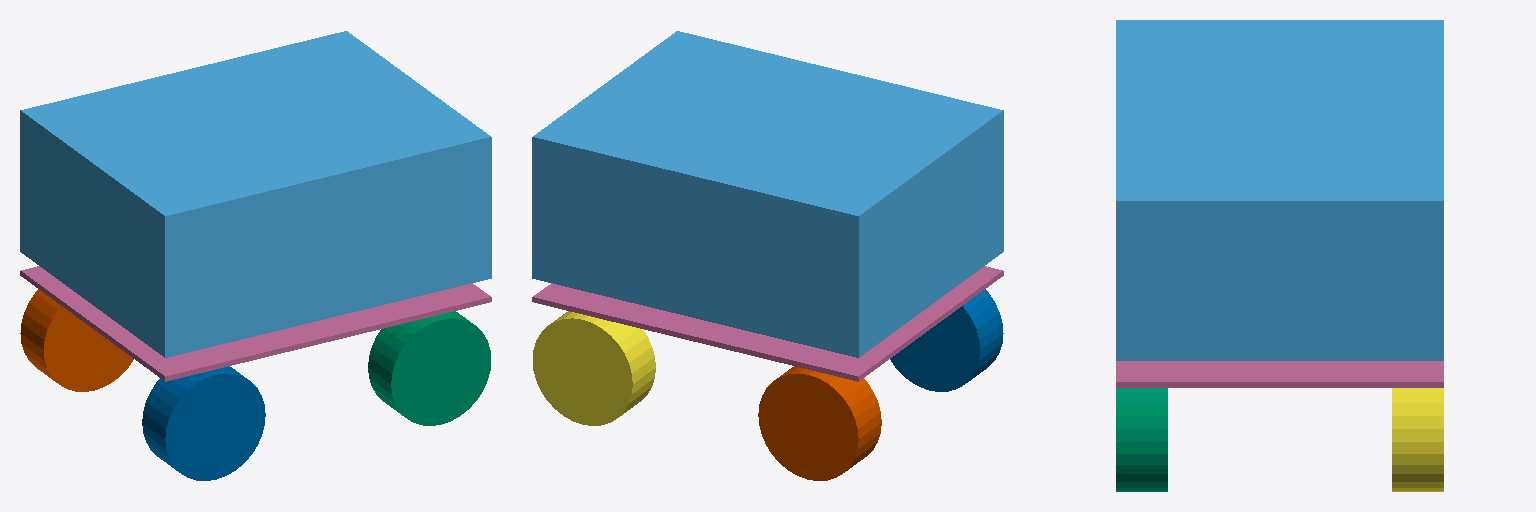
The robot description file, URDF, robot "rafi":
<robot name="rafi">


    <link name="dummy">
    </link>
    <joint name="dummyjoint" type="fixed">

        <parent link="dummy"/>
        <child link="Chasis"/>
        

    </joint>



    <link name="Chasis" >

        <visual>

            <geometry>

                <box size="0.65 0.5 0.27"/>

            </geometry>    

        </visual> 
        <collision>

            <geometry>

                <box size="0.65 0.5 0.27"/>

            </geometry>

        </collision>
        <inertial>

            <mass value="1.0"/>
            <origin xyz="0 0 0"/>
            <inertia ixx="0.1" ixy="0.0" ixz="0.0" iyy="0.1" iyz="0.0" izz="0.1"/>

        </inertial> 
        <origin xyz="0 0 0.375" rpy="0 0 0"/>  

    </link>    
    <link name="Rueda1" > 

    <visual>

        <geometry>

            <cylinder radius="0.1" length="0.08"/>

        </geometry>
        <origin xyz="0 0 0" rpy="1.57075 0 0" />

    </visual>
    <collision>

        <geometry>

            <cylinder radius="0.1" length="0.08"/>

        </geometry>
        <origin xyz="0 0 0" rpy="1.57075 0 0" />


    </collision>
    <inertial>

        <mass value="0.1"/>
        <origin xyz="0 0 0"/>
        <inertia ixx="0.01" ixy="0.0" ixz="0.0" iyy="0.01" iyz="0.0" izz="0.01"/>
    
    </inertial>
    

    </link>   
    <link name="Rueda2" >

    <visual>

        <geometry>

            <cylinder radius="0.1" length="0.08"/>

        </geometry>
        <origin xyz="0 0 0" rpy="1.57075 0 0" />

    </visual>
    <collision>

        <geometry>

            <cylinder radius="0.1" length="0.08"/>

        </geometry>
        <origin xyz="0 0 0" rpy="1.57075 0 0" />


    </collision>
    <inertial>

        <mass value="0.1"/>
        <origin xyz="0 0 0"/>
        <inertia ixx="0.01" ixy="0.0" ixz="0.0" iyy="0.01" iyz="0.0" izz="0.01"/>
    
    </inertial>
    

    </link>
    <link name="Rueda3" > 

    <visual>

        <geometry>

            <cylinder radius="0.1" length="0.08"/>

        </geometry>
        <origin xyz="0 0 0" rpy="1.57075 0 0" />

    </visual>
    <collision>

        <geometry>

            <cylinder radius="0.1" length="0.08"/>

        </geometry>
        <origin xyz="0 0 0" rpy="1.57075 0 0" />


    </collision>
    <inertial>

        <mass value="0.1"/>
        <origin xyz="0 0 0"/>
        <inertia ixx="0.01" ixy="0.0" ixz="0.0" iyy="0.01" iyz="0.0" izz="0.01"/>
    
    </inertial>
   

    </link>
    <link name="Rueda4" >

    <visual>

        <geometry>

            <cylinder radius="0.1" length="0.08"/>

        </geometry>
        <origin xyz="0 0 0" rpy="1.57075 0 0" />

    </visual>
    <collision>

        <geometry>

            <cylinder radius="0.1" length="0.08"/>

        </geometry>
        <origin xyz="0 0 0" rpy="1.57075 0 0" />


    </collision>
    <inertial>

        <mass value="0.1"/>
        <origin xyz="0 0 0"/>
        <inertia ixx="0.01" ixy="0.0" ixz="0.0" iyy="0.01" iyz="0.0" izz="0.01"/>
    
    </inertial>
   

    </link>

    <link name="Plancha" >

        <visual>

            <geometry>

                <box size="0.65 0.5 0.01"/>

            </geometry>    

        </visual> 
        <collision>

            <geometry>

                <box size="0.65 0.5 0.01"/>

            </geometry>

        </collision>
        <inertial>

            <mass value="1.0"/>
            <origin xyz="0 0 0"/>
            <inertia ixx="0.1" ixy="0.0" ixz="0.0" iyy="0.1" iyz="0.0" izz="0.1"/>

        </inertial>   

    </link>   
    
    <joint name="Rueda1Chasis" type="continuous">
        <parent link="Chasis" />
        <child link="Rueda1" />
        <origin xyz="0.225 -0.21 -0.29" rpy="0 0 0" />
        <axis xyz="0 1 0"/>
    </joint>

    <joint name="Rueda2Chasis" type="continuous">
        <parent link="Chasis" />
        <child link="Rueda2" />
        <origin xyz="0.225 0.21 -0.29" rpy="0 0 0" />
        <axis xyz="0 1 0"/>
    </joint>

    <joint name="Rueda3Chasis" type="continuous">
        <parent link="Chasis" />
        <child link="Rueda3" />
        <origin xyz="-0.225 -0.21 -0.29" rpy="0 0 0" />
        <axis xyz="0 1 0"/>
    </joint>

    <joint name="Rueda4Chasis" type="continuous">
        <parent link="Chasis" />
        <child link="Rueda4" />
        <origin xyz="-0.225 0.21 -0.29" rpy="0 0 0" />
        <axis xyz="0 1 0"/>
    </joint>

    <joint name="Plancha2base" type="fixed">

        <parent link="Chasis" />
        <child link="Plancha" />
        <origin xyz="0 0 -0.175" rpy="0 0 0"/>

    </joint>


    <gazebo>
        <plugin name="object_controller" filename="libgazebo_ros_planar_move.so">
          <commandTopic>cmd_vel</commandTopic>
          <odometryTopic>odom</odometryTopic>
          <odometryFrame>dummy</odometryFrame>
          <odometryRate>20.0</odometryRate>
          <robotBaseFrame>Chasis</robotBaseFrame>
        </plugin>
      </gazebo>

</robot>

--- Render facts (derived) ---
The picture shows the robot from 3 angles, left to right: view 1: azimuth 30°, elevation 25°; view 2: azimuth 150°, elevation 25°; view 3: azimuth 270°, elevation 25°; orthographic projection.
Model rafi with 7 links and 6 joints (4 continuous, 2 fixed), rooted at dummy, posed every joint at zero.
Visible links, largest first — view 1: Chasis, Plancha, Rueda3, Rueda1, Rueda4; view 2: Chasis, Plancha, Rueda4, Rueda2, Rueda3; view 3: Chasis, Plancha, Rueda1, Rueda2.
Boxes of the visible links, left/top/right/bottom form: Chasis: left=20, top=31, right=491, bottom=357; Plancha: left=20, top=266, right=491, bottom=381; Rueda3: left=142, top=366, right=265, bottom=480; Rueda1: left=368, top=311, right=490, bottom=425; Rueda4: left=20, top=289, right=133, bottom=391; Chasis: left=532, top=31, right=1003, bottom=357; Plancha: left=532, top=266, right=1003, bottom=381; Rueda4: left=758, top=366, right=881, bottom=480; Rueda2: left=533, top=311, right=655, bottom=425; Rueda3: left=890, top=289, right=1003, bottom=391; Chasis: left=1116, top=20, right=1443, bottom=360; Plancha: left=1116, top=361, right=1443, bottom=387; Rueda1: left=1116, top=388, right=1167, bottom=491; Rueda2: left=1392, top=388, right=1443, bottom=491.
Size in the robot's own frame: 0.65 by 0.5 by 0.525 metres.
Geometry: primitives only (box / cylinder / sphere), no mesh files.
